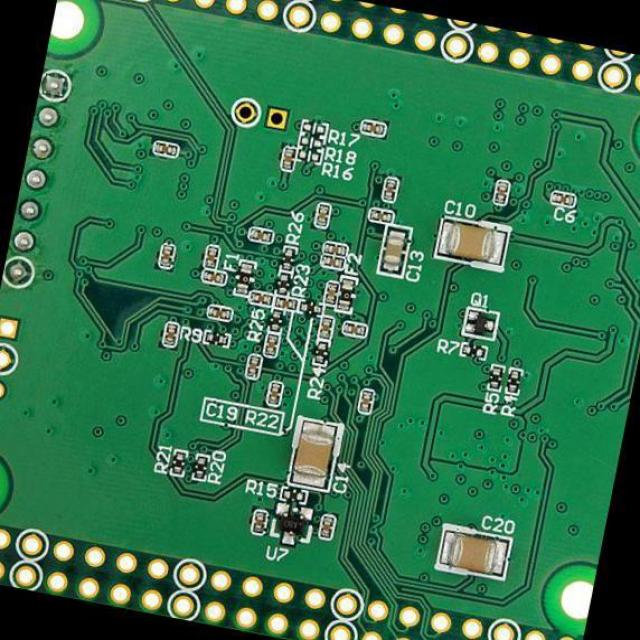Capacitor Jumper: (286, 416, 342, 490), (433, 214, 509, 268), (438, 524, 512, 579), (378, 224, 412, 276), (550, 188, 580, 208), (273, 294, 299, 314)
Connector: (0, 516, 583, 639), (59, 0, 638, 110), (0, 306, 34, 410), (226, 95, 293, 138)
IC: (272, 501, 314, 542)
Inductor: (333, 274, 357, 313), (233, 259, 256, 297)
Pads: (301, 117, 329, 136), (296, 132, 326, 149), (296, 147, 324, 163)
Pins: (0, 63, 76, 297)
Resistor: (189, 452, 210, 482), (311, 338, 331, 366), (459, 342, 488, 360), (296, 299, 324, 317), (202, 330, 230, 348), (169, 447, 187, 475), (280, 486, 308, 504), (265, 308, 284, 334), (280, 244, 298, 271), (504, 367, 522, 394), (275, 269, 293, 295), (488, 363, 503, 391)
Transistor: (462, 307, 498, 340)
Unknown Unlabeled: (339, 318, 368, 339), (312, 201, 334, 228), (321, 237, 349, 257), (160, 320, 180, 348), (357, 386, 377, 414), (358, 119, 387, 138), (205, 302, 234, 321), (248, 508, 268, 535), (151, 139, 179, 158), (262, 332, 282, 358), (492, 178, 510, 206), (246, 226, 274, 244), (322, 279, 340, 307), (316, 312, 334, 340), (245, 352, 263, 380), (200, 267, 227, 285), (381, 174, 398, 202), (202, 244, 220, 270), (266, 380, 284, 406), (318, 513, 336, 539), (369, 206, 396, 223), (321, 253, 348, 270), (248, 290, 276, 306), (159, 245, 176, 270), (280, 146, 296, 172)
